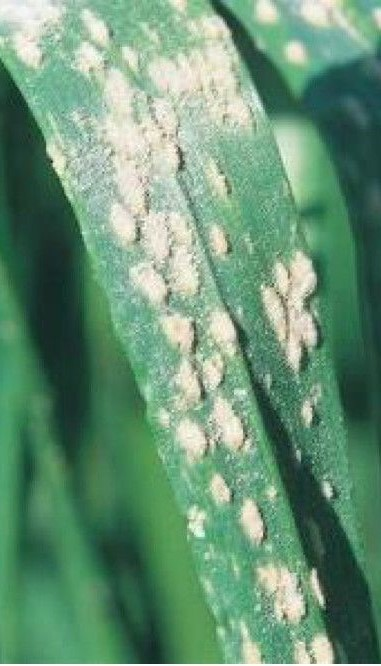Powdery Mildew: (76, 83, 359, 630)
